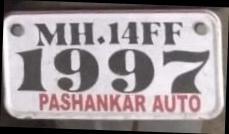character: (162, 48, 211, 94), (107, 48, 155, 94), (52, 48, 98, 92), (15, 47, 47, 92), (34, 21, 68, 46), (68, 21, 95, 46), (140, 20, 161, 45), (162, 21, 183, 45), (120, 21, 139, 45), (107, 21, 119, 45), (83, 93, 96, 112), (122, 93, 135, 112), (188, 94, 201, 113), (95, 94, 108, 112), (71, 92, 83, 111), (134, 93, 146, 112), (163, 94, 176, 111), (37, 92, 49, 110), (47, 93, 59, 111), (59, 92, 71, 110), (109, 93, 121, 111), (176, 94, 188, 112), (151, 95, 163, 112)
